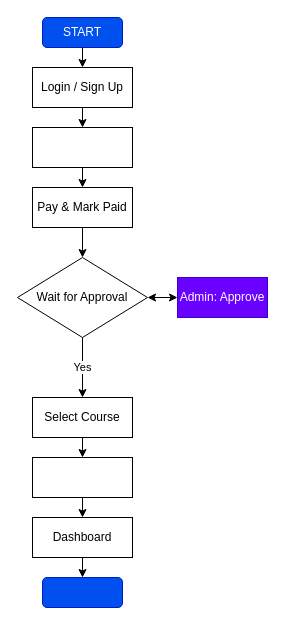
This 285x625 diagram has some shape labels left out. Here are the shapes that lost their labels. From the top down, the box of each, then its label:
(32, 126, 132, 168): Fill & Save Info
(32, 456, 132, 498): Submit App
(42, 576, 122, 608): END
